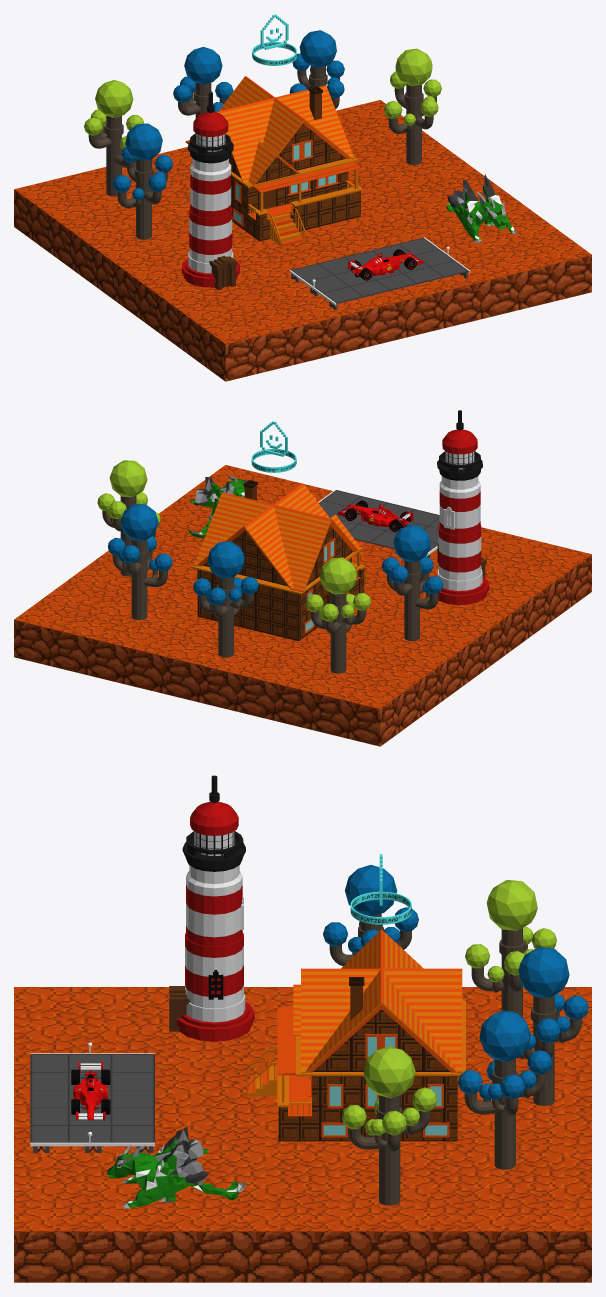
3 renders of one model, top to bottom at view 1: azimuth 30°, elevation 25°; view 2: azimuth 150°, elevation 25°; view 3: azimuth 270°, elevation 25°, orthographic. The views are drawn at different scales.
Parts seen in each view (by area): view 1: Cube.001, Cube, OBJRANDOM_LIGHTHOUSE, ANIMAL_DRAGON, VEHICLES_FORMULA_1, TYPE_PREMIUM; view 2: Cube.001, Cube, OBJRANDOM_LIGHTHOUSE, VEHICLES_FORMULA_1, ANIMAL_DRAGON, TYPE_PREMIUM; view 3: Cube.001, Cube, OBJRANDOM_LIGHTHOUSE, ANIMAL_DRAGON, VEHICLES_FORMULA_1, TYPE_PREMIUM.
Boxes of the visible parts, bbox=[...] form: Cube.001: bbox=[14, 30, 591, 381]; Cube: bbox=[185, 76, 363, 247]; OBJRANDOM_LIGHTHOUSE: bbox=[181, 92, 239, 290]; ANIMAL_DRAGON: bbox=[446, 174, 517, 242]; VEHICLES_FORMULA_1: bbox=[348, 249, 423, 280]; TYPE_PREMIUM: bbox=[252, 14, 296, 65]; Cube.001: bbox=[14, 460, 591, 746]; Cube: bbox=[190, 480, 366, 641]; OBJRANDOM_LIGHTHOUSE: bbox=[437, 410, 489, 604]; VEHICLES_FORMULA_1: bbox=[338, 500, 413, 531]; ANIMAL_DRAGON: bbox=[188, 475, 246, 538]; TYPE_PREMIUM: bbox=[251, 421, 296, 472]; Cube.001: bbox=[14, 865, 591, 1282]; Cube: bbox=[246, 930, 465, 1141]; OBJRANDOM_LIGHTHOUSE: bbox=[169, 775, 254, 1041]; ANIMAL_DRAGON: bbox=[106, 1126, 246, 1208]; VEHICLES_FORMULA_1: bbox=[71, 1061, 110, 1120]; TYPE_PREMIUM: bbox=[350, 854, 411, 924].
Size of the model in its own units: 4000 by 2410 by 4000.
44 materials, 6 textured.
